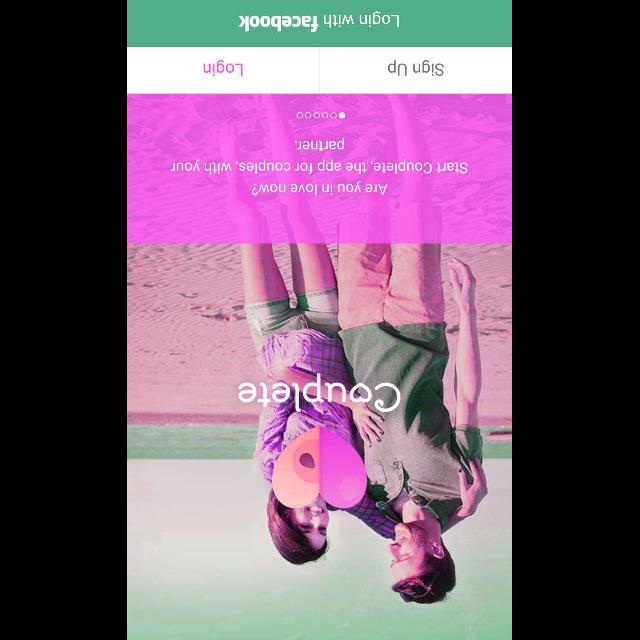backgroundimage: (128, 94, 512, 640)
image: (272, 424, 368, 508), (238, 372, 402, 412)
pageindicator: (297, 112, 347, 118)
text: (172, 138, 468, 174), (252, 180, 388, 196)
textbutton: (128, 0, 512, 46), (321, 47, 513, 93), (128, 47, 320, 93)
